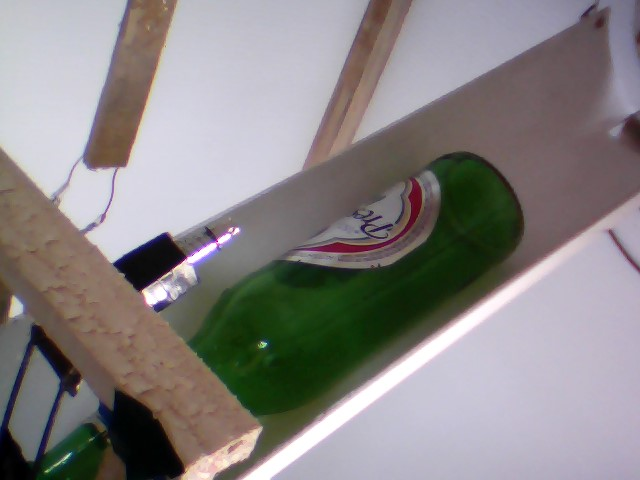vidrio: (179, 145, 532, 411)
